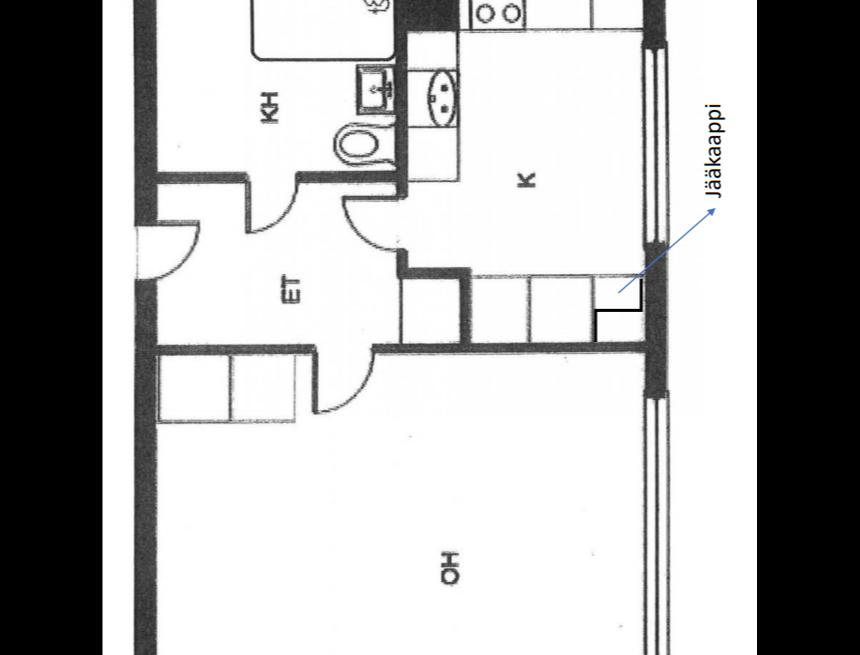door: (306, 336, 382, 416), (128, 216, 206, 284), (334, 189, 410, 255), (238, 164, 306, 234)
window: (634, 383, 672, 655), (634, 31, 674, 256)
